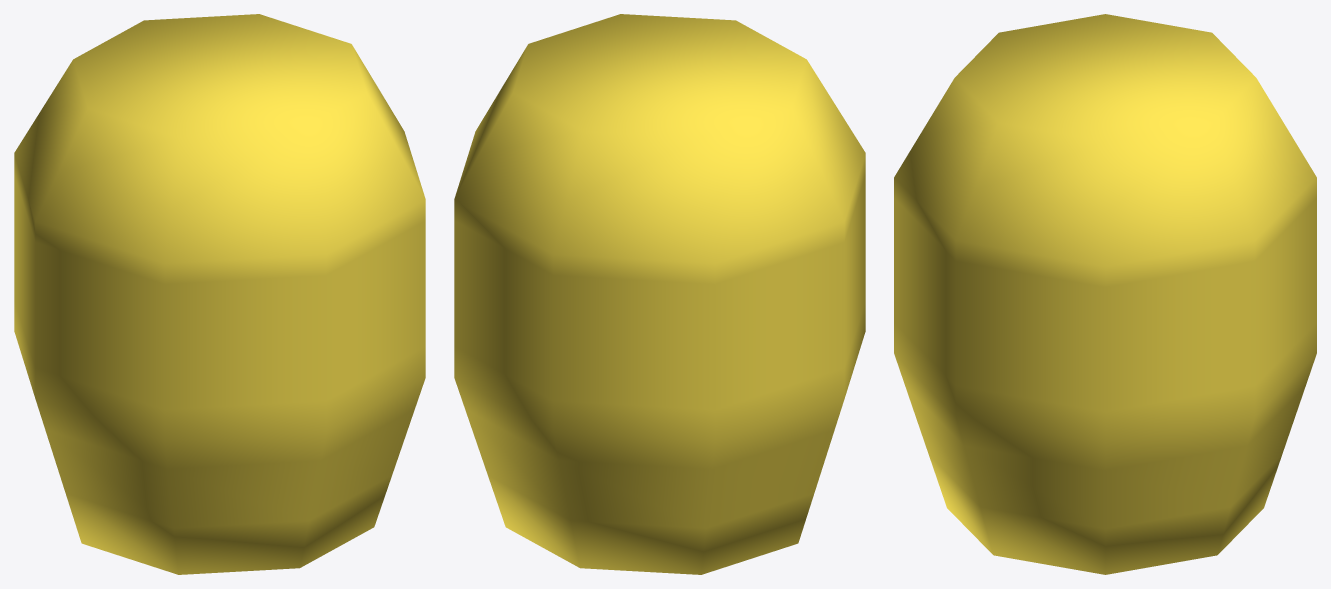
File: lemonade 6.glb
3 views of the same model, side by side, from view 1: azimuth 30°, elevation 25°; view 2: azimuth 150°, elevation 25°; view 3: azimuth 270°, elevation 25° (orthographic).
Parts seen in each view (by area): view 1: Cylinder.003; view 2: Cylinder.003; view 3: Cylinder.003.
Boxes of the visible parts, x1,y1,x2,y2 form: Cylinder.003: (14, 14, 425, 574); Cylinder.003: (454, 14, 865, 574); Cylinder.003: (894, 14, 1316, 574).
Bounding box in the file's own units: 1.94 × 2.18 × 1.94.
